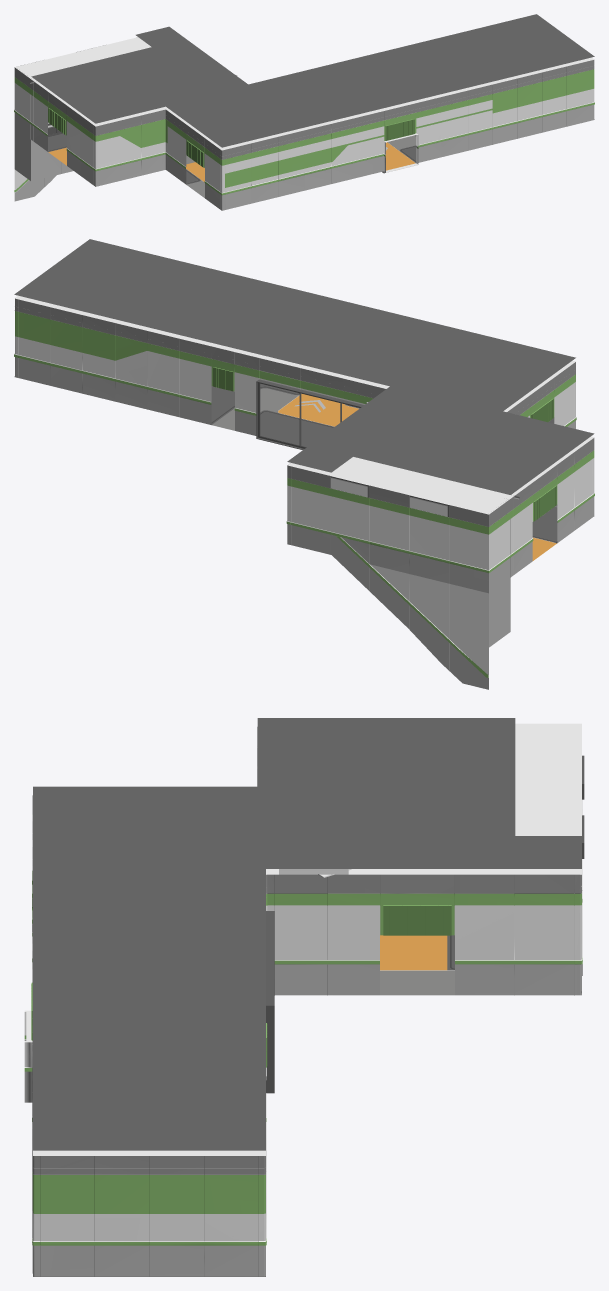
3 views of the same model, one above another, from view 1: azimuth 30°, elevation 25°; view 2: azimuth 150°, elevation 25°; view 3: azimuth 270°, elevation 25° (orthographic). The views are drawn at different scales.
Parts seen in each view (by area): view 1: SM_H_Building_FutureTech_HBlue_01_InterWall_05; view 2: SM_H_Building_FutureTech_HBlue_01_InterWall_05; view 3: SM_H_Building_FutureTech_HBlue_01_InterWall_05.
Boxes of the visible parts, <box> form: SM_H_Building_FutureTech_HBlue_01_InterWall_05: <box>14,14,594,210</box>; SM_H_Building_FutureTech_HBlue_01_InterWall_05: <box>14,239,594,689</box>; SM_H_Building_FutureTech_HBlue_01_InterWall_05: <box>24,718,584,1276</box>.
Size of the model in its own units: 775 by 1430 by 419.
